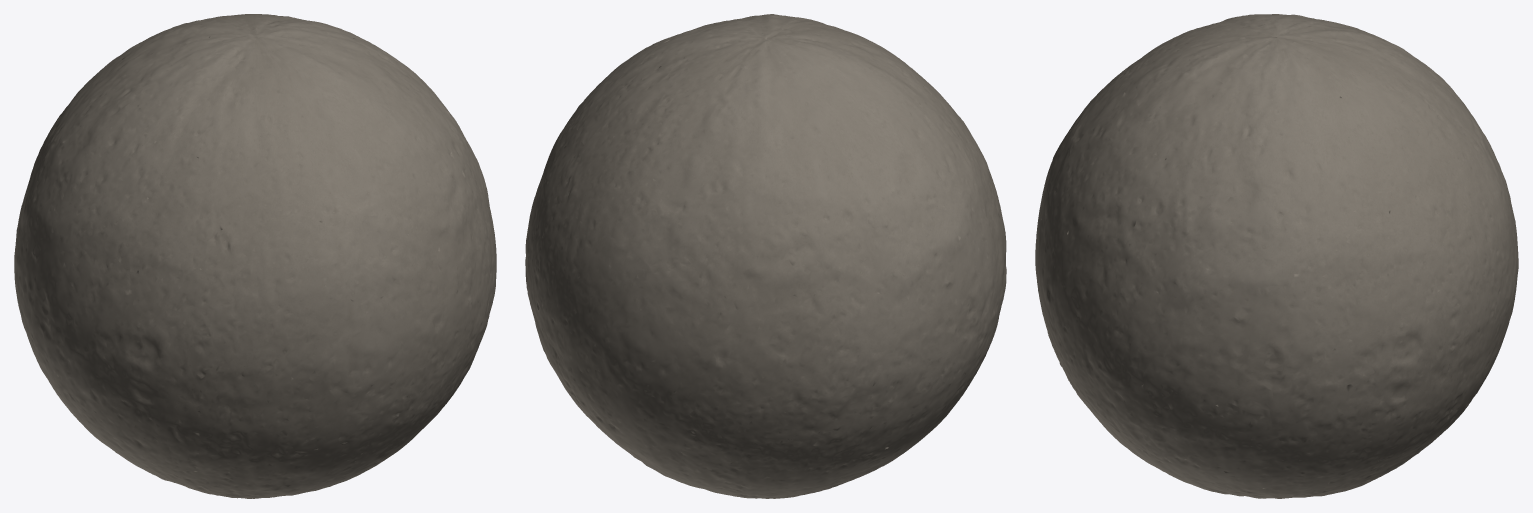
The model's file is moon_01_4k.gltf.
The picture shows the model from 3 angles, left to right: view 1: azimuth 30°, elevation 25°; view 2: azimuth 150°, elevation 25°; view 3: azimuth 270°, elevation 25°; orthographic projection.
Visible parts, largest first — view 1: sphere_gltf; view 2: sphere_gltf; view 3: sphere_gltf.
Part boxes in pixels (x1,y1,x2,y2): sphere_gltf: (14, 14, 496, 498); sphere_gltf: (525, 14, 1006, 498); sphere_gltf: (1035, 14, 1518, 498).
Size of the model in its own units: 3.11 by 3.12 by 3.1.
Materials: 1 (1 with a texture image).
